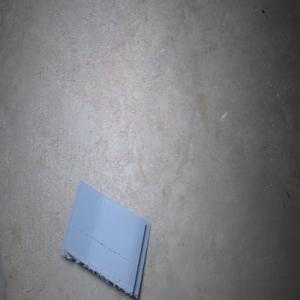PlasticPart: (60, 179, 151, 300)
